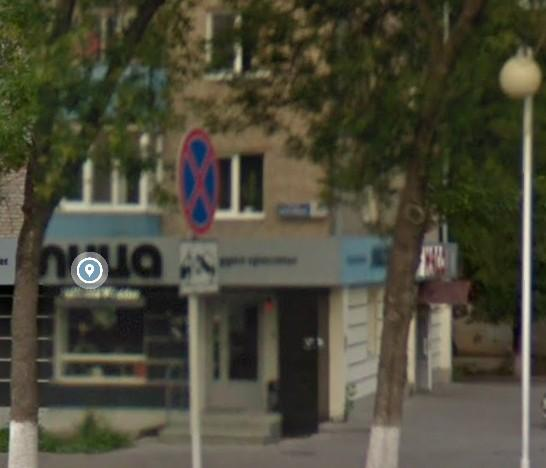No Parking: (175, 130, 221, 237)
